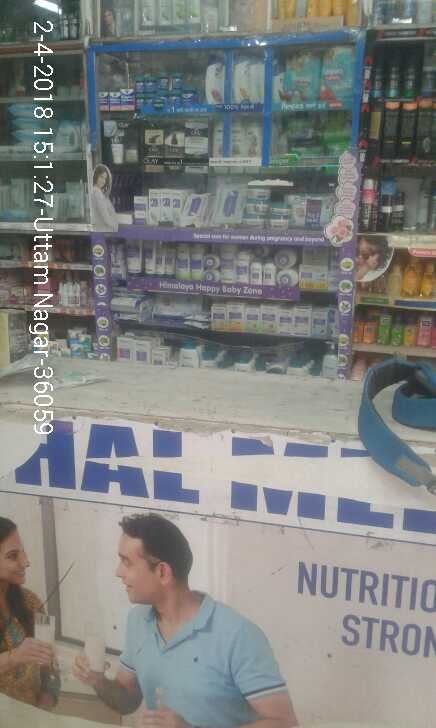vicks: (96, 70, 206, 111)
